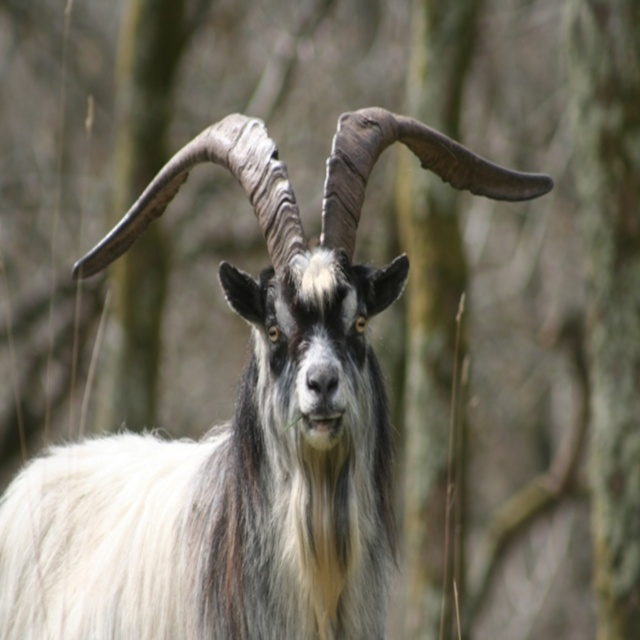Goat: (0, 108, 554, 640)
